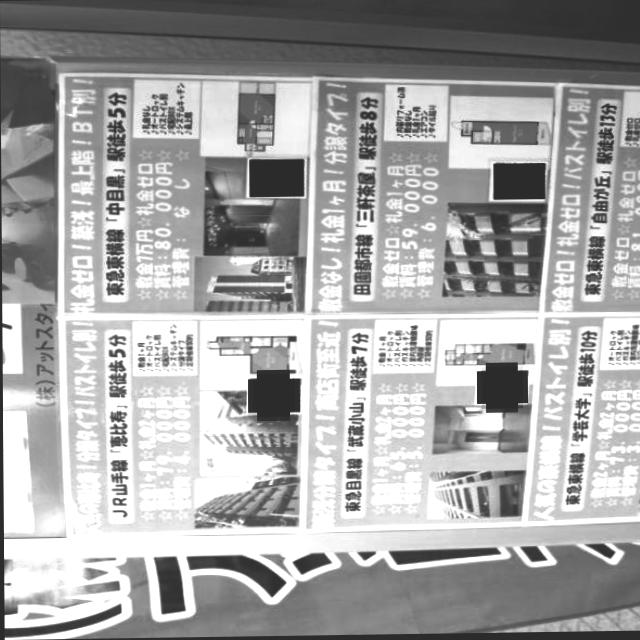qr_code: (249, 158, 304, 197), (493, 164, 545, 200), (252, 374, 294, 417), (481, 367, 522, 409)
